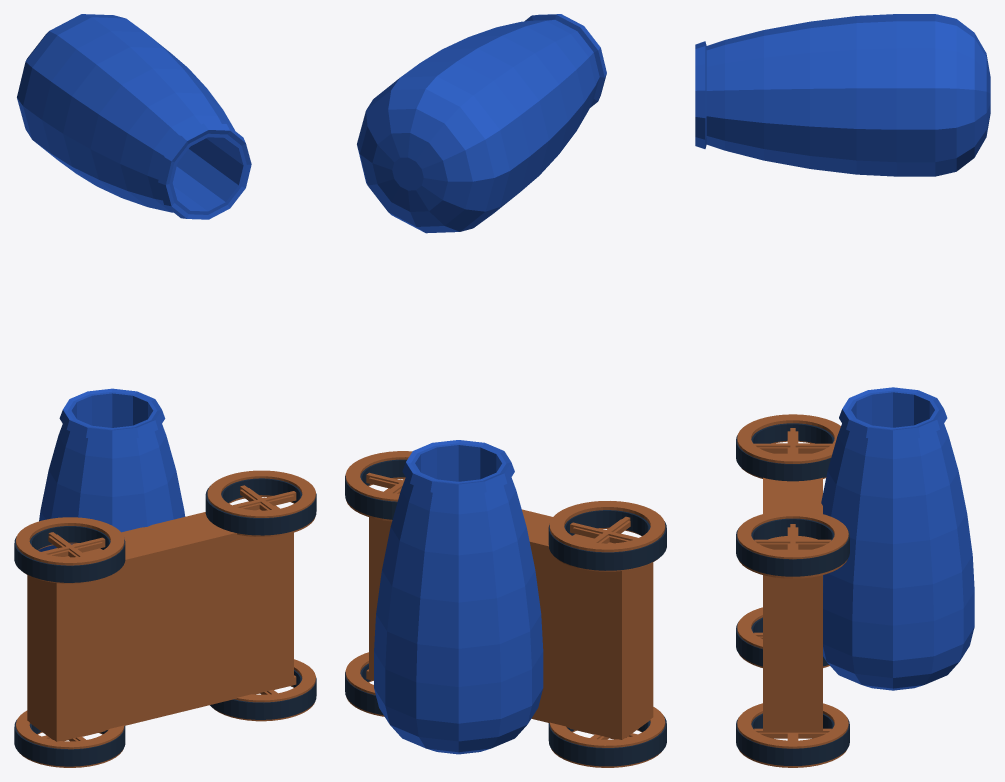
File: pushka5.fbx
3 renders of one model, left to right at view 1: azimuth 30°, elevation 25°; view 2: azimuth 150°, elevation 25°; view 3: azimuth 270°, elevation 25°, orthographic. The views are drawn at different scales.
Visible parts, largest first — view 1: Cylinder.002, Cylinder.007, Cylinder, Cylinder.001, Cylinder.006, Cylinder.005, Cylinder.003, Cylinder.004; view 2: Cylinder, Cylinder.007, Cylinder.002, Cylinder.001, Cylinder.005, Cylinder.003, Cylinder.006, Cylinder.004; view 3: Cylinder.007, Cylinder, Cylinder.002, Cylinder.001, Cylinder.006, Cylinder.005, Cylinder.004, Cylinder.003.
Part boxes in pixels (<box>): Cylinder.002: <box>27,485,296,741</box>; Cylinder.007: <box>17,14,251,219</box>; Cylinder: <box>38,388,185,551</box>; Cylinder.001: <box>16,470,315,767</box>; Cylinder.006: <box>205,478,316,535</box>; Cylinder.005: <box>14,526,125,582</box>; Cylinder.003: <box>14,720,125,766</box>; Cylinder.004: <box>210,670,316,719</box>; Cylinder: <box>374,440,543,754</box>; Cylinder.007: <box>357,14,606,233</box>; Cylinder.002: <box>366,472,653,739</box>; Cylinder.001: <box>345,451,665,767</box>; Cylinder.005: <box>548,510,666,570</box>; Cylinder.003: <box>548,716,666,766</box>; Cylinder.006: <box>345,459,406,519</box>; Cylinder.004: <box>345,663,383,715</box>; Cylinder.007: <box>695,14,990,176</box>; Cylinder: <box>821,387,974,690</box>; Cylinder.002: <box>754,428,831,740</box>; Cylinder.001: <box>737,414,848,767</box>; Cylinder.006: <box>736,518,849,576</box>; Cylinder.005: <box>736,423,834,481</box>; Cylinder.004: <box>736,713,849,765</box>; Cylinder.003: <box>736,617,828,666</box>.
Bounding box in the file's own units: 218 × 474 × 189.
